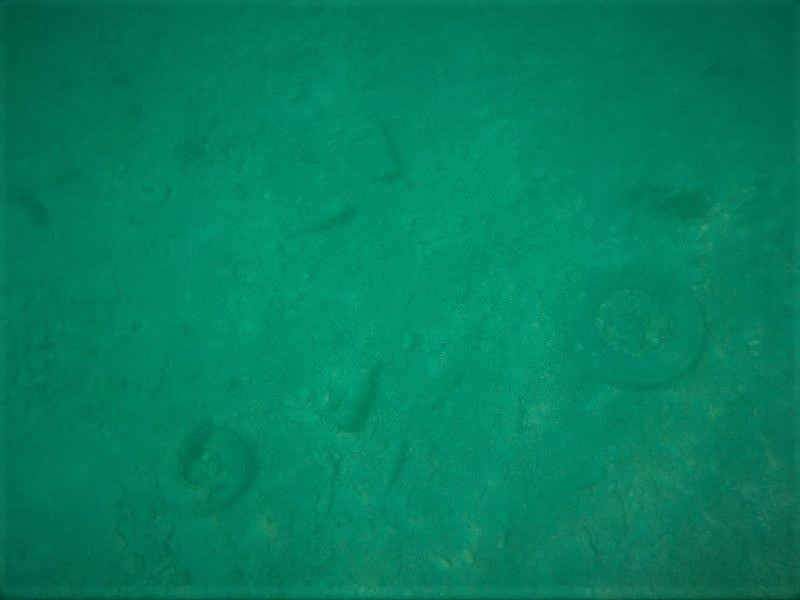bottle: (326, 355, 388, 439), (276, 193, 355, 245), (368, 430, 416, 504), (363, 118, 405, 186)
tire: (555, 260, 710, 389), (150, 420, 256, 518)
